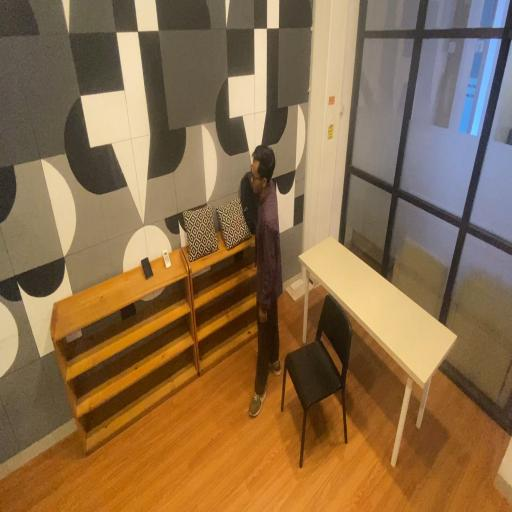bantal: (183, 204, 218, 260), (217, 198, 250, 248)
hp: (141, 254, 155, 282)
kursi: (280, 293, 355, 463)
lemari: (50, 275, 202, 454)
remote AC: (162, 248, 171, 270)
tas ransel: (238, 168, 262, 234)
